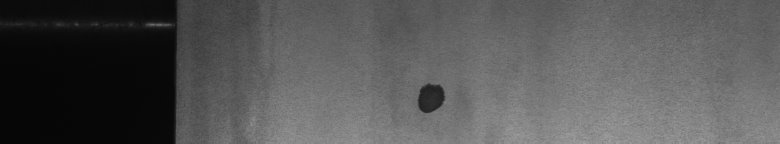fi: (409, 76, 452, 120)
